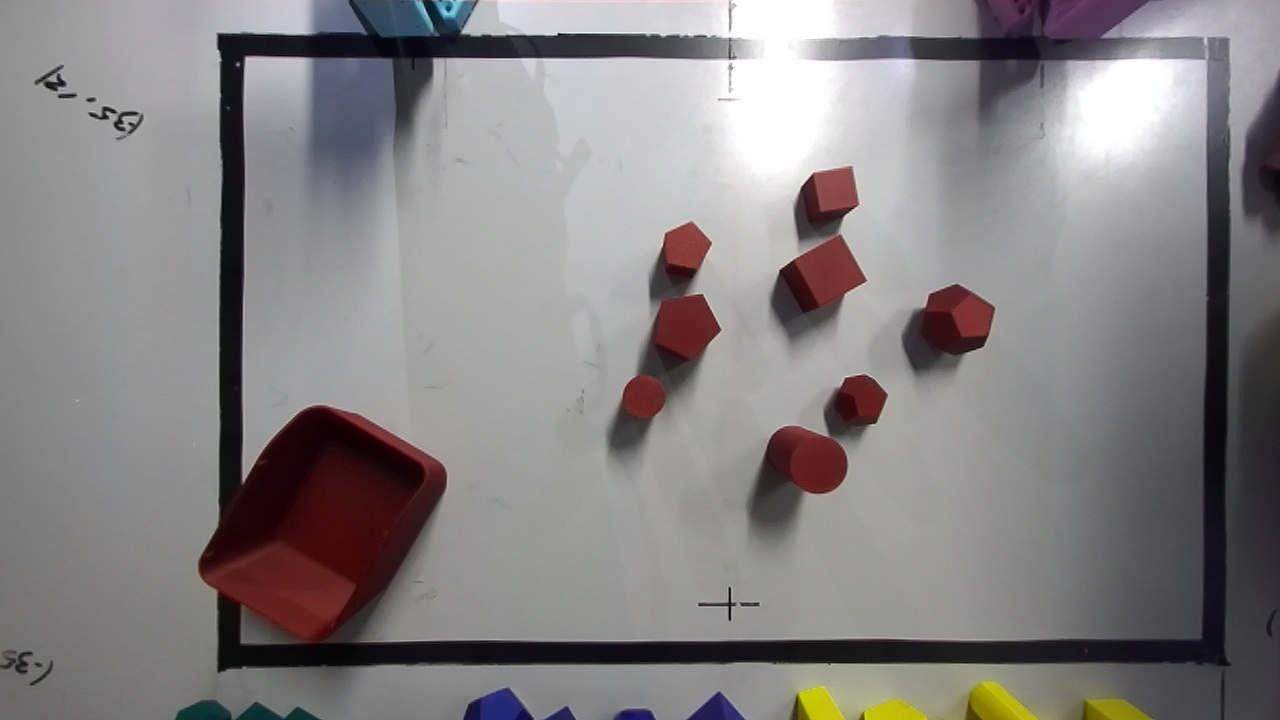bin: (199, 406, 445, 640)
cube: (780, 235, 865, 311), (802, 166, 859, 223)
cylinder: (766, 426, 847, 493), (621, 375, 665, 418)
dodecahedron: (921, 284, 994, 353), (835, 374, 886, 424)
hexagonal: (653, 294, 720, 359), (662, 221, 711, 275)
